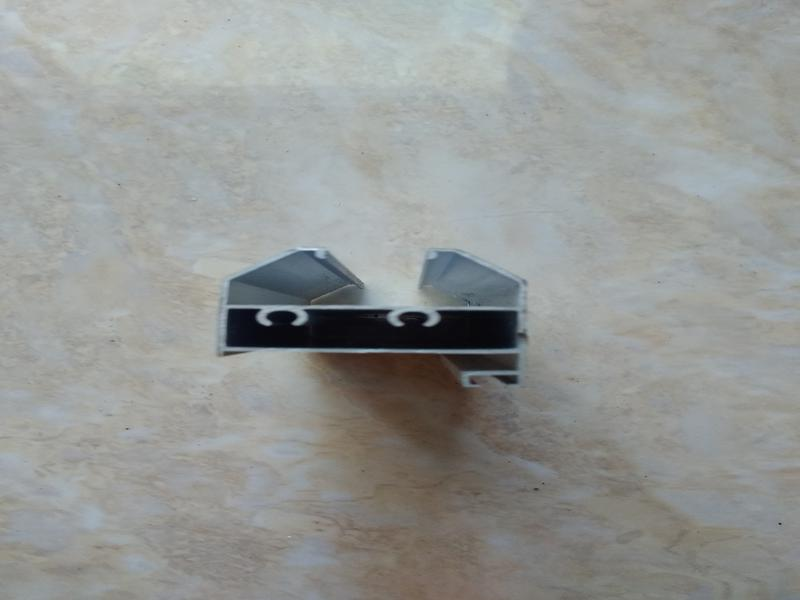Aluminium_3: (180, 188, 574, 430)
